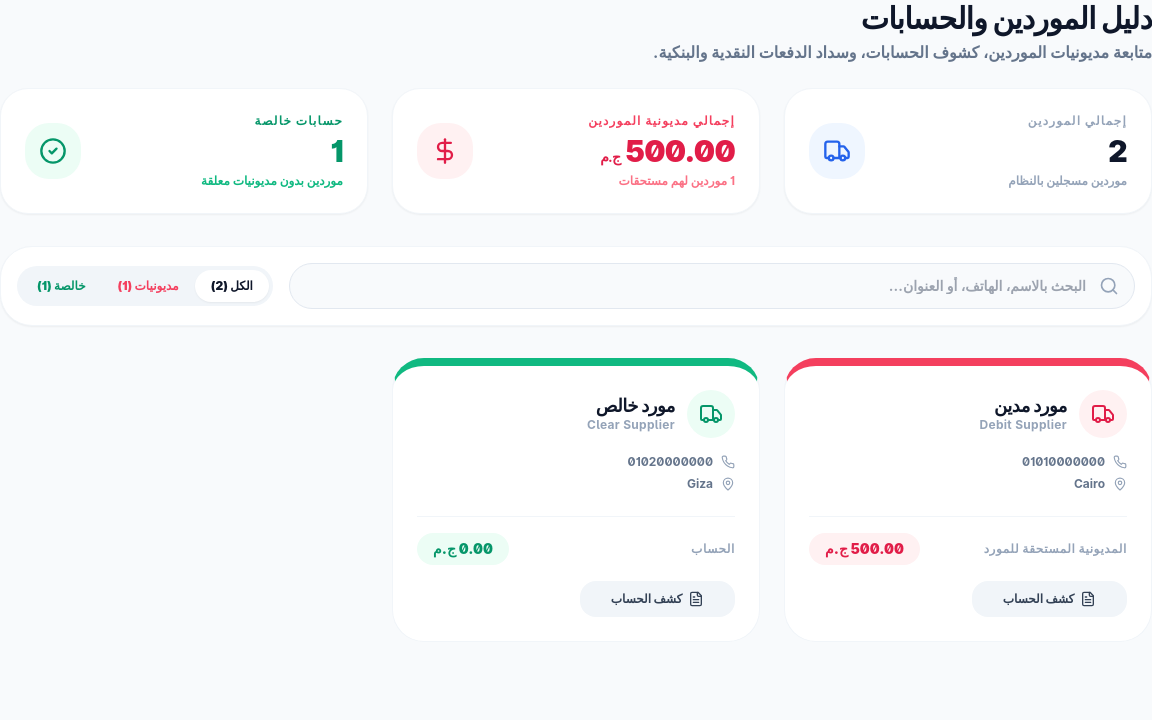
Test: coverage-gap: supplier management UI permissions and interactions › shows a retryable statement error instead of presenting a failed statement request as an empty account
This screenshot has width=1152, height=720.
Expected: the heading "مورد مدين" is shown, [994,395,1067,416]
Click the button "كشف الحساب" below "المديونية المستحقة للمورد": [1050, 599] box [972,581,1127,617]
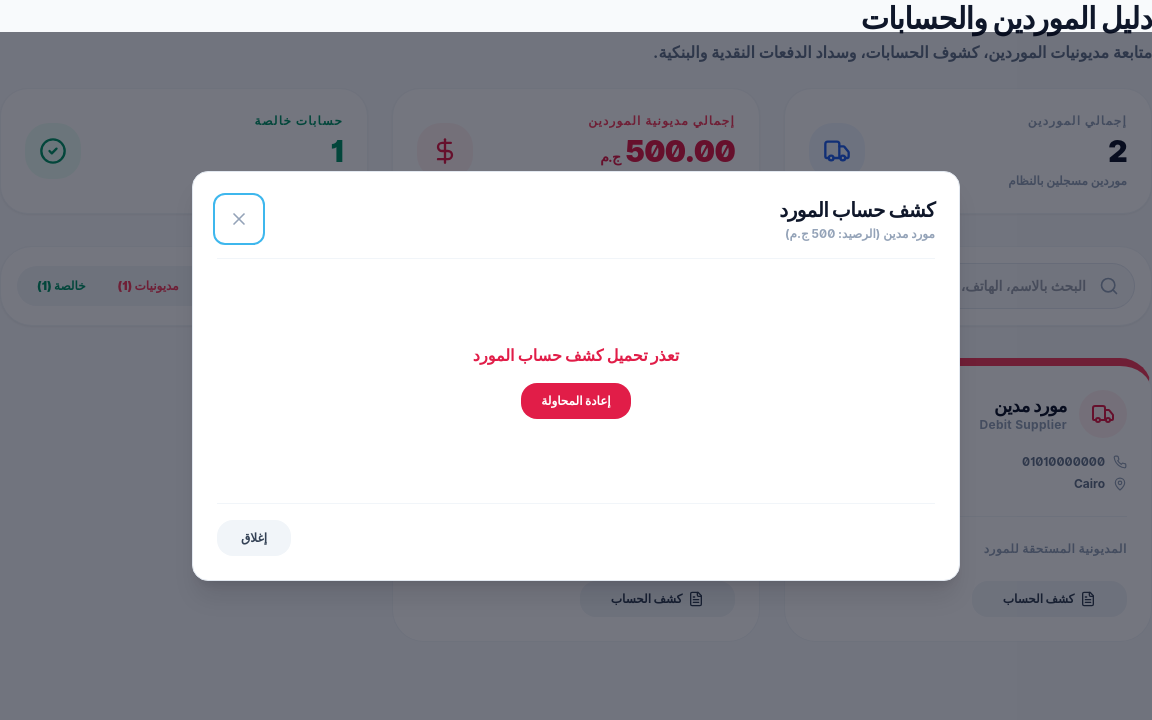
Now the text "تعذر تحميل كشف حساب المورد" is shown, box [473,345,679,365]
Click the button "إعادة المحاولة": [576, 401] box [521,383,631,419]
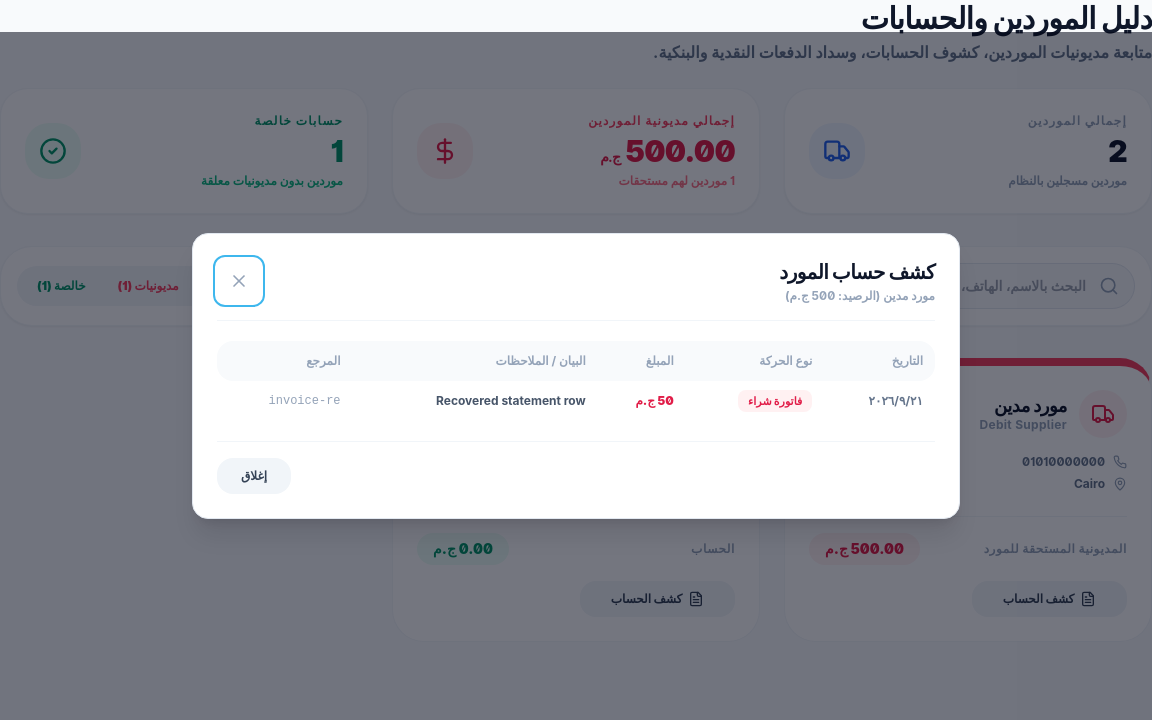
Now the text "Recovered statement row" is shown, box [352,381,598,421]
